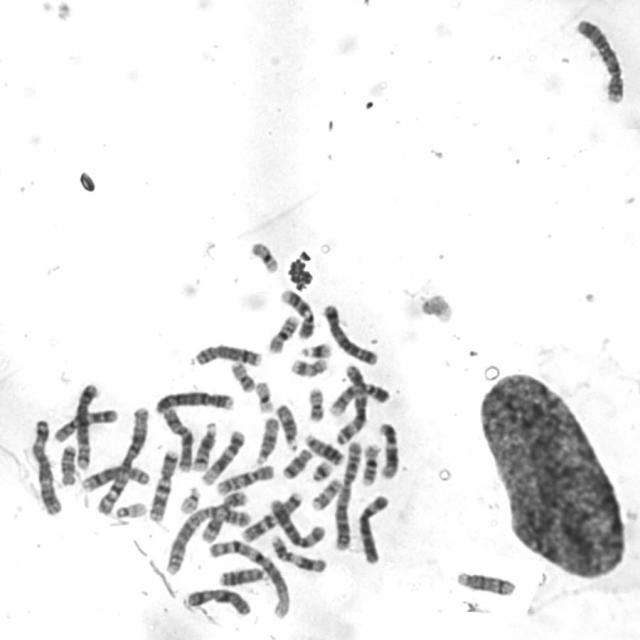A1: (205, 534, 292, 620), (92, 400, 152, 517)
A2: (160, 496, 252, 576), (329, 435, 364, 552)
A3: (26, 413, 64, 517), (330, 361, 370, 447)
B4: (572, 13, 626, 105), (150, 385, 236, 415)
B5: (318, 298, 379, 366), (70, 377, 101, 472)
C10: (48, 403, 120, 444), (212, 459, 277, 496)
C11: (198, 486, 250, 544), (266, 531, 328, 574)
C12: (196, 424, 247, 485), (374, 417, 400, 480)
C6: (265, 492, 327, 550), (352, 489, 392, 566)
C7: (237, 486, 305, 544), (144, 444, 181, 522)
C8: (76, 459, 152, 494), (189, 338, 264, 368)
C9: (323, 376, 392, 418), (274, 283, 316, 340)
D13: (299, 427, 345, 467), (214, 562, 268, 587)
D14: (452, 566, 518, 598), (187, 416, 220, 472)
D15: (250, 412, 281, 466), (271, 399, 299, 451)
E16: (263, 309, 301, 355), (356, 439, 382, 486)
E17: (306, 473, 344, 512), (286, 353, 330, 379)
E18: (278, 443, 314, 480), (55, 440, 78, 487)
F19: (245, 236, 281, 274), (250, 376, 276, 414)
F20: (225, 356, 257, 393), (302, 382, 326, 424)
G21: (296, 338, 333, 360), (307, 455, 334, 483)
G22: (173, 480, 202, 515), (110, 497, 149, 519)
X: (157, 402, 196, 473), (180, 582, 252, 618)
